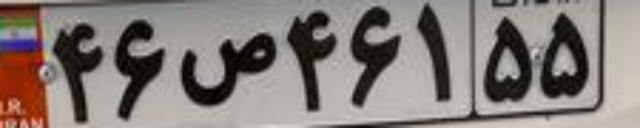1: (416, 3, 451, 101)
4: (284, 8, 338, 113), (50, 23, 102, 123)
5: (540, 10, 592, 98), (481, 16, 534, 102)
6: (347, 5, 400, 111), (112, 18, 160, 123)
saat: (177, 30, 279, 108)
